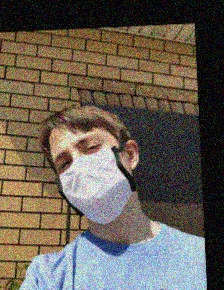with_mask: (49, 132, 139, 224)
